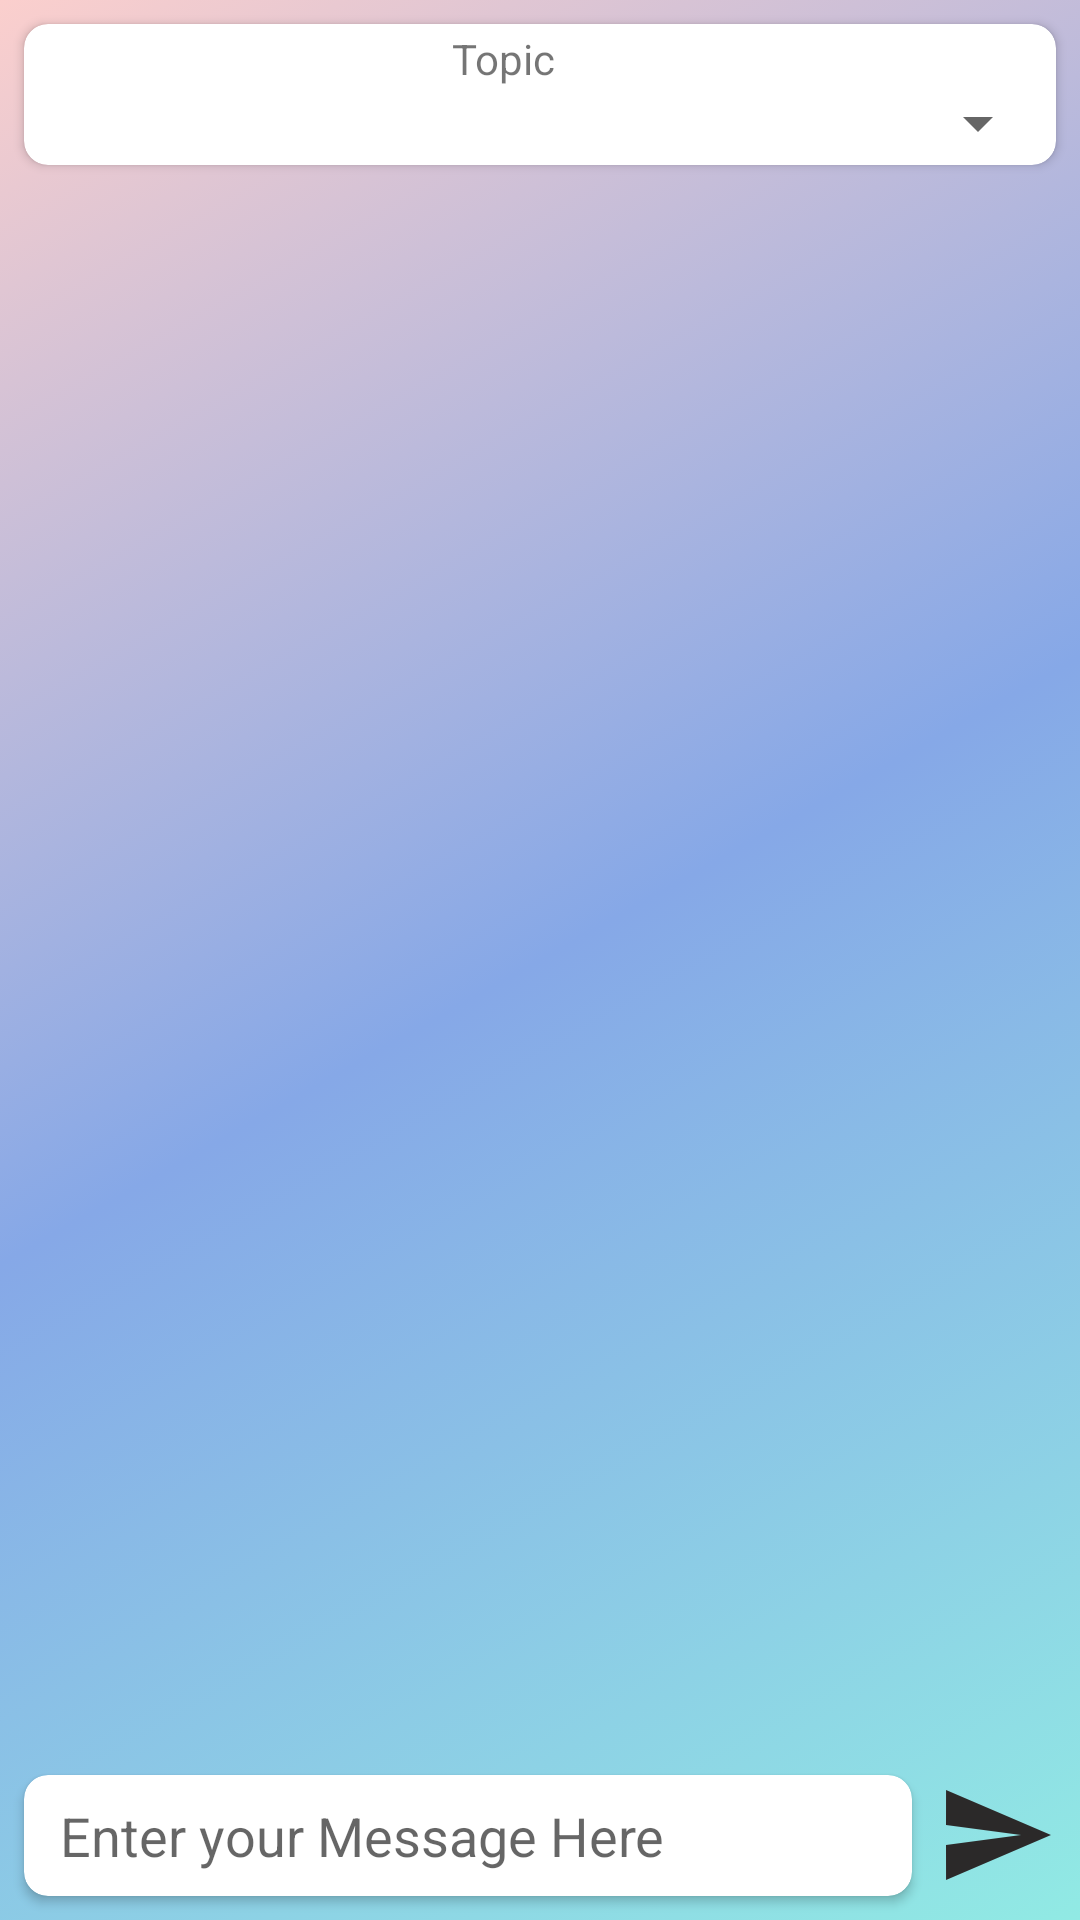

Locate icon controls on the screen. Image size 1080w x 1920h, boxes as {"x1": x1, "y1": y1, "x2": x2, "y2": y2}.
send: {"x1": 946, "y1": 1790, "x2": 1051, "y2": 1880}
